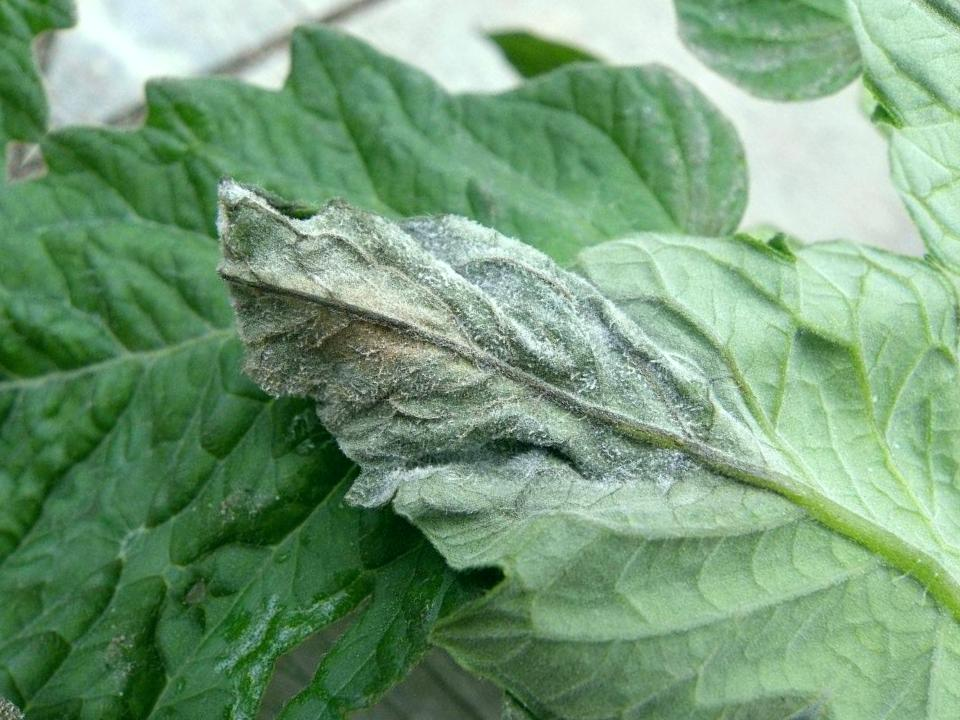Tomato leaf late blight: (67, 0, 960, 720)
